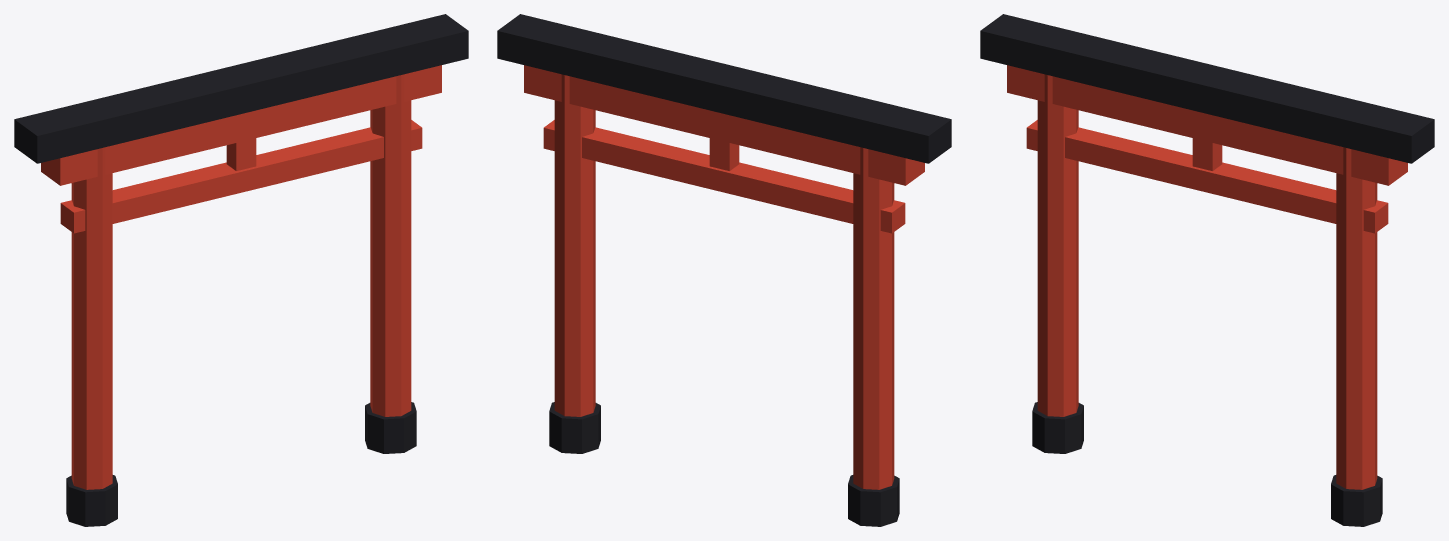
File: torii.glb
3 renders of one model, left to right at view 1: azimuth 30°, elevation 25°; view 2: azimuth 150°, elevation 25°; view 3: azimuth 330°, elevation 25°, orthographic.
Visible parts, largest first — view 1: Cube, Cylinder.002, Cylinder, Cube.001, Cube.002, Cylinder.001, Cylinder.003, Cube.003; view 2: Cube, Cylinder.002, Cylinder, Cube.001, Cube.002, Cylinder.001, Cylinder.003, Cube.003; view 3: Cube, Cylinder, Cylinder.002, Cube.001, Cube.002, Cylinder.003, Cylinder.001, Cube.003.
Part boxes in pixels (x1=…): Cube: x1=14, y1=14, x2=468, y2=163; Cylinder.002: x1=370, y1=74, x2=411, y2=416; Cylinder: x1=71, y1=147, x2=112, y2=489; Cube.001: x1=41, y1=65, x2=441, y2=185; Cube.002: x1=60, y1=120, x2=422, y2=233; Cylinder.001: x1=66, y1=475, x2=117, y2=526; Cylinder.003: x1=365, y1=402, x2=416, y2=453; Cube.003: x1=226, y1=138, x2=256, y2=170; Cube: x1=497, y1=14, x2=951, y2=163; Cylinder.002: x1=554, y1=74, x2=595, y2=416; Cylinder: x1=853, y1=147, x2=894, y2=489; Cube.001: x1=524, y1=65, x2=924, y2=185; Cube.002: x1=543, y1=120, x2=905, y2=233; Cylinder.001: x1=848, y1=475, x2=899, y2=526; Cylinder.003: x1=549, y1=402, x2=600, y2=453; Cube.003: x1=709, y1=138, x2=739, y2=170; Cube: x1=980, y1=14, x2=1434, y2=163; Cylinder: x1=1037, y1=74, x2=1078, y2=416; Cylinder.002: x1=1336, y1=147, x2=1377, y2=489; Cube.001: x1=1007, y1=65, x2=1407, y2=185; Cube.002: x1=1026, y1=120, x2=1388, y2=233; Cylinder.003: x1=1331, y1=475, x2=1382, y2=526; Cylinder.001: x1=1032, y1=402, x2=1083, y2=453; Cube.003: x1=1192, y1=138, x2=1222, y2=170.
Size of the model in its own units: 2.6 by 2.33 by 0.28.
